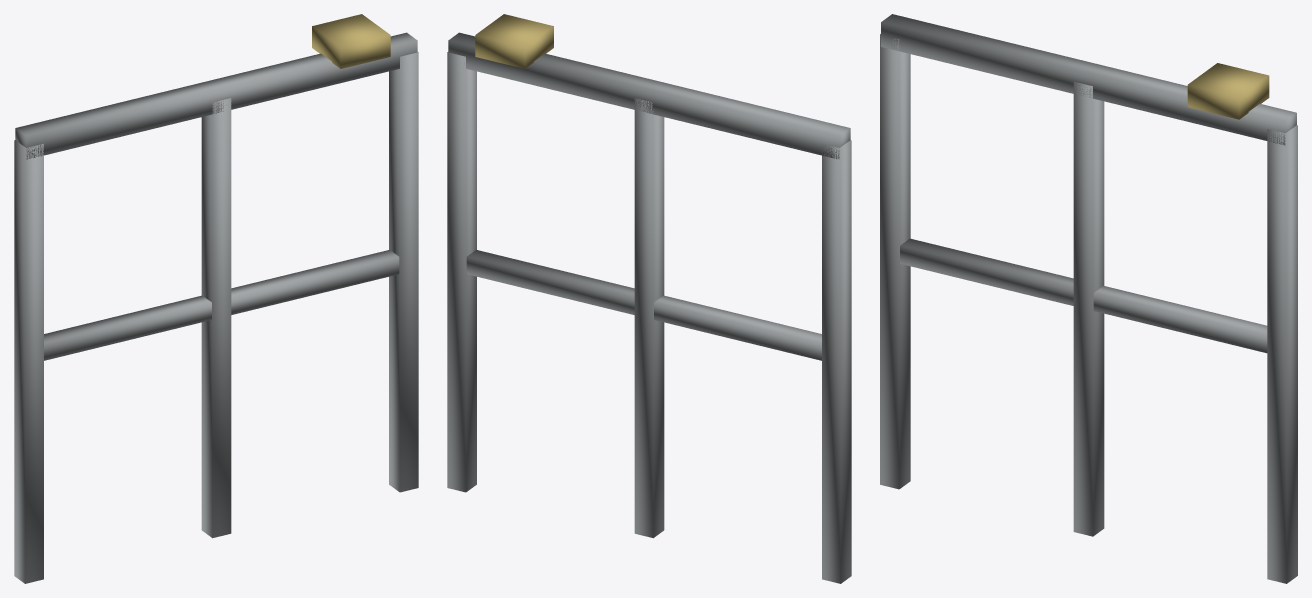
File: residential_portal_break_l90.glb
3 renders of one model, left to right at view 1: azimuth 30°, elevation 25°; view 2: azimuth 150°, elevation 25°; view 3: azimuth 330°, elevation 25°, orthographic. The views are drawn at different scales.
Parts seen in each view (by area): view 1: world; view 2: world; view 3: world.
Part boxes in pixels (bbox=[...]): world: bbox=[14, 14, 418, 583]; world: bbox=[447, 14, 851, 583]; world: bbox=[880, 14, 1297, 583].
Bounding box in the file's own units: 0.945 × 1.08 × 0.12.
